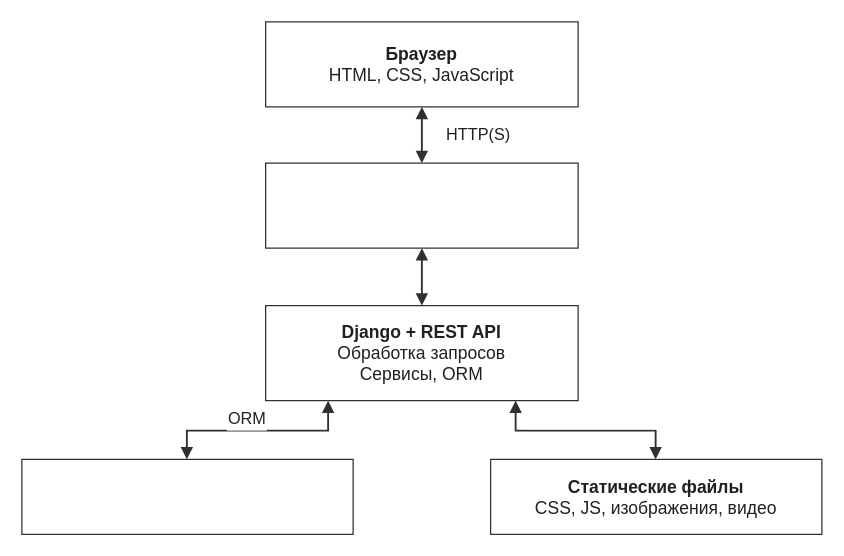
The diagram is 844 pixels wide and 556 high, and some of its shapes have lost their labels. The centre of each missing label's shape, as x and y in pixels:
"staticfiles / WhiteNoise" belongs at point 627,416.
"База данных SQLite / PostgreSQL" belongs at point 187,496.
"Сервер приложений runserver / Gunicorn" belongs at point 421,205.
